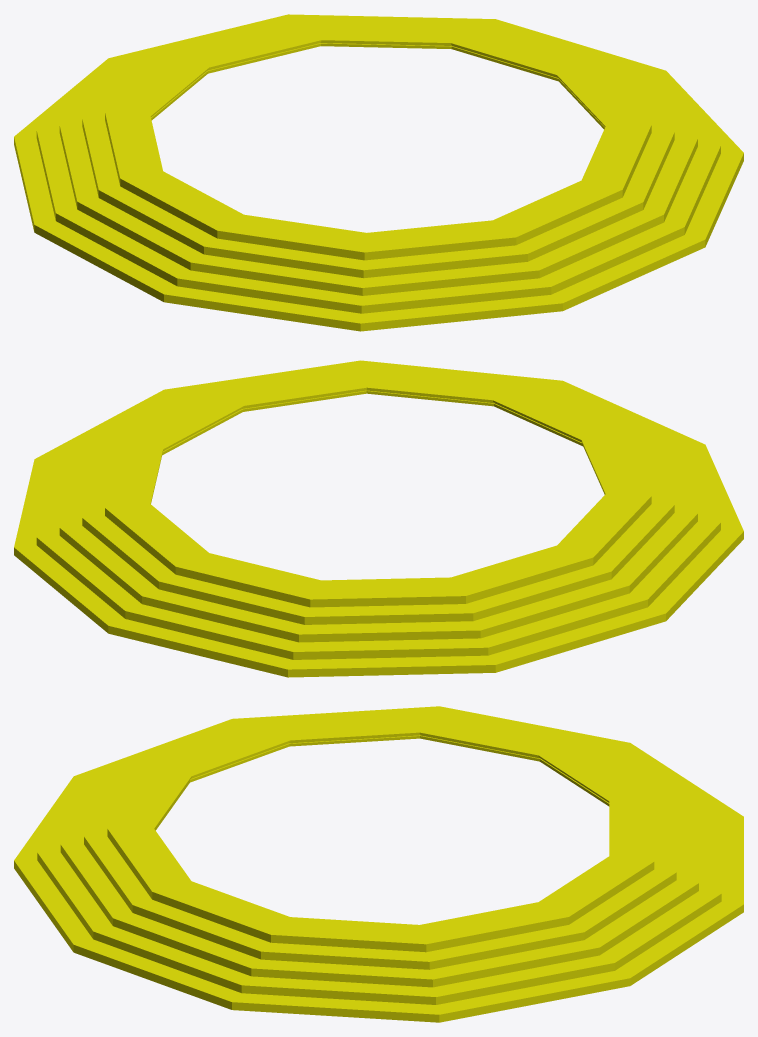
Rendered from stairs_curved.fbx.
3 views of the same model, one above another, from view 1: azimuth 30°, elevation 25°; view 2: azimuth 150°, elevation 25°; view 3: azimuth 270°, elevation 25° (orthographic).
Visible parts, largest first — view 1: stairs curved.002; view 2: stairs curved.002; view 3: stairs curved.002.
Part boxes in pixels (x1=…): stairs curved.002: x1=14, y1=14, x2=743, y2=331; stairs curved.002: x1=14, y1=360, x2=743, y2=677; stairs curved.002: x1=14, y1=706, x2=743, y2=1022.
Bounding box in the file's own units: 5000 × 300 × 5000.
